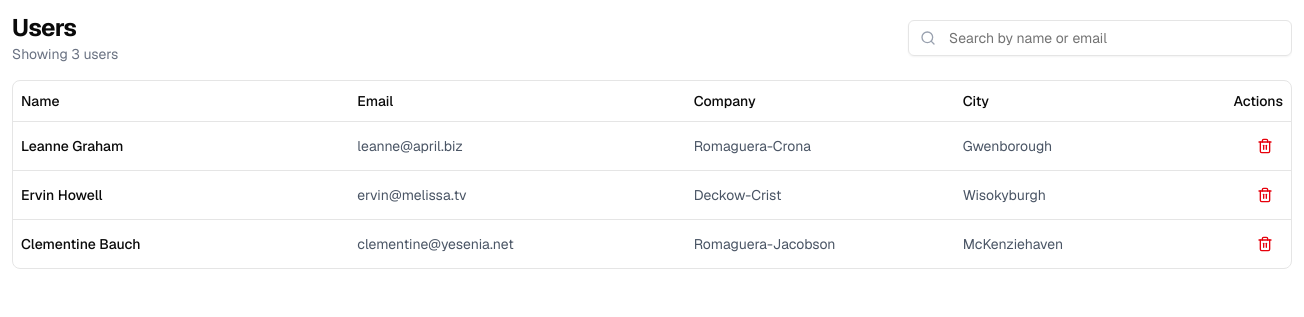
Scenario: UserTable Integration Tests › Search Functionality › should show empty state when no results found
Expected: the text "Leanne Graham" is shown, top-left (13, 121), bottom-right (349, 170)
Type "nonexistent" into the field with placeholder "Search by name or email".
click(1100, 38); type("nonexistent")  # box top-left (908, 20), bottom-right (1292, 56)
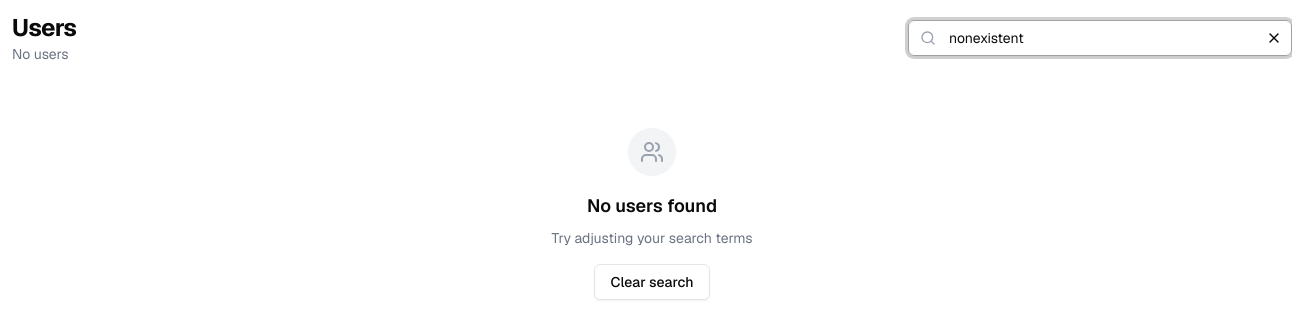
Now the heading "No users found" is shown, box top-left (587, 192), bottom-right (717, 220)
Now the text "Try adjusting your search terms" is shown, box top-left (551, 228), bottom-right (752, 248)
